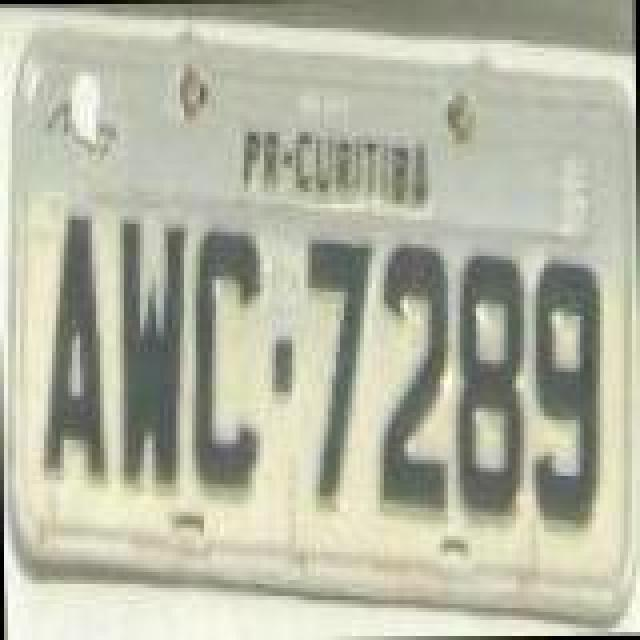2: (378, 240, 458, 516)
7: (302, 234, 378, 510)
8: (452, 250, 528, 514)
9: (530, 258, 610, 534)
A: (36, 212, 108, 484)
C: (186, 222, 262, 494)
W: (114, 212, 190, 496)
